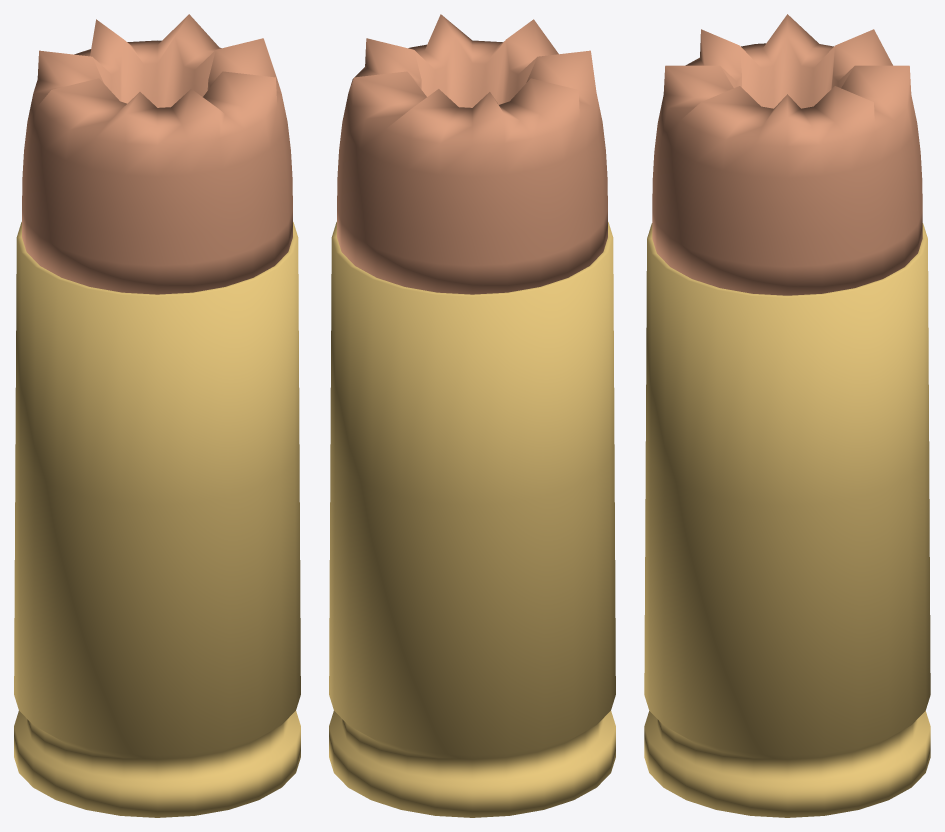
The picture shows the model from 3 angles, left to right: view 1: azimuth 30°, elevation 25°; view 2: azimuth 150°, elevation 25°; view 3: azimuth 270°, elevation 25°; orthographic projection.
Visible parts, largest first — view 1: vaina, bala_flor; view 2: vaina, bala_flor; view 3: vaina, bala_flor.
Boxes of the visible parts, x1=… form: vaina: x1=14, y1=222, x2=300, y2=817; bala_flor: x1=22, y1=14, x2=292, y2=294; vaina: x1=329, y1=222, x2=615, y2=817; bala_flor: x1=337, y1=14, x2=607, y2=294; vaina: x1=644, y1=223, x2=930, y2=817; bala_flor: x1=652, y1=14, x2=922, y2=295.
Bounding box in the file's own units: 0.0108 × 0.0288 × 0.0108.
